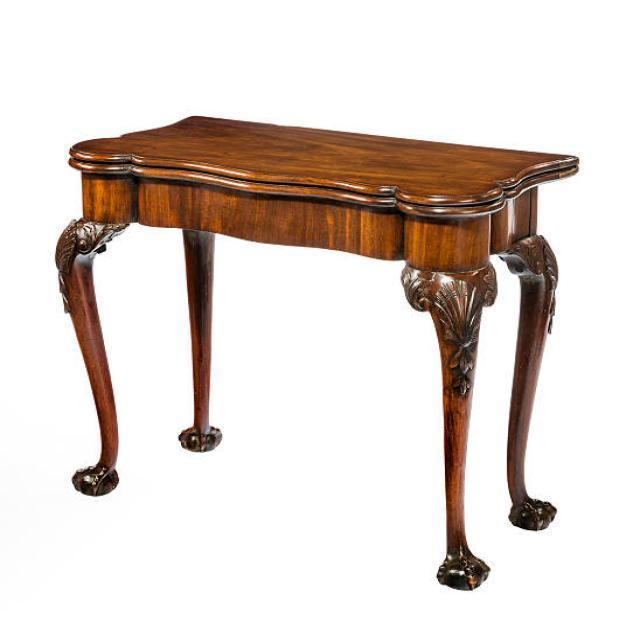table: (53, 113, 580, 591)
